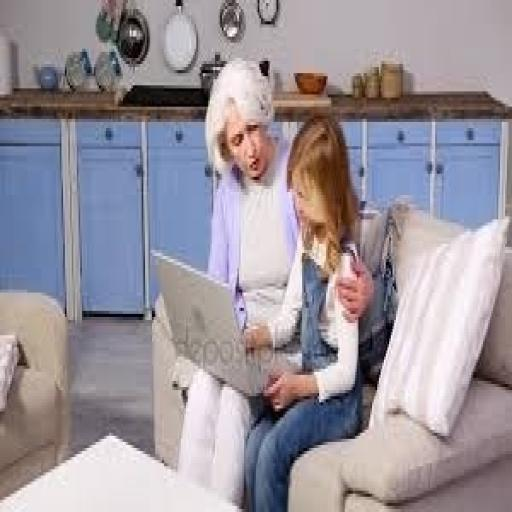using_laptop: (148, 247, 298, 399)
